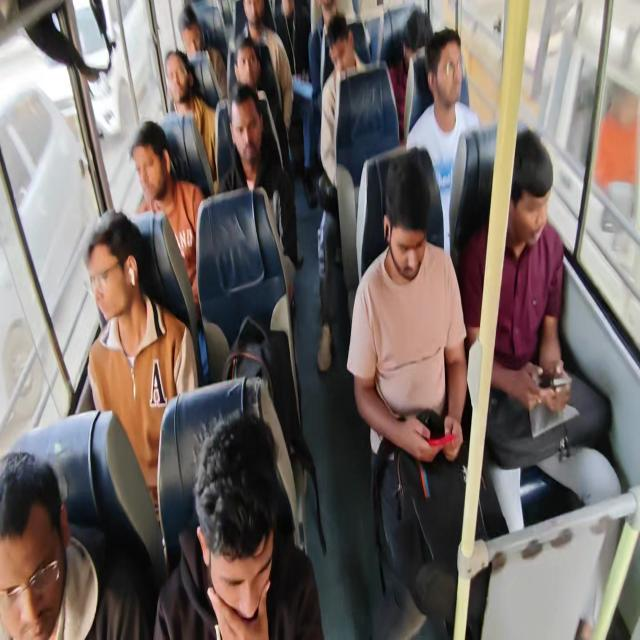person: (146, 427, 299, 640), (0, 424, 87, 640), (488, 123, 570, 317), (374, 182, 449, 352), (124, 133, 205, 254), (75, 237, 158, 351), (406, 39, 460, 121), (227, 106, 280, 181), (165, 49, 214, 124), (230, 64, 278, 134), (230, 4, 285, 62), (328, 14, 364, 100), (172, 0, 212, 71), (277, 0, 315, 67), (405, 0, 436, 59), (315, 0, 349, 51)
